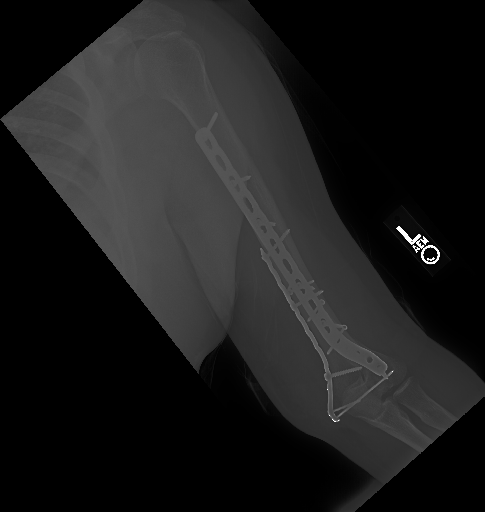implant: (305, 305, 395, 421), (255, 221, 326, 326)
